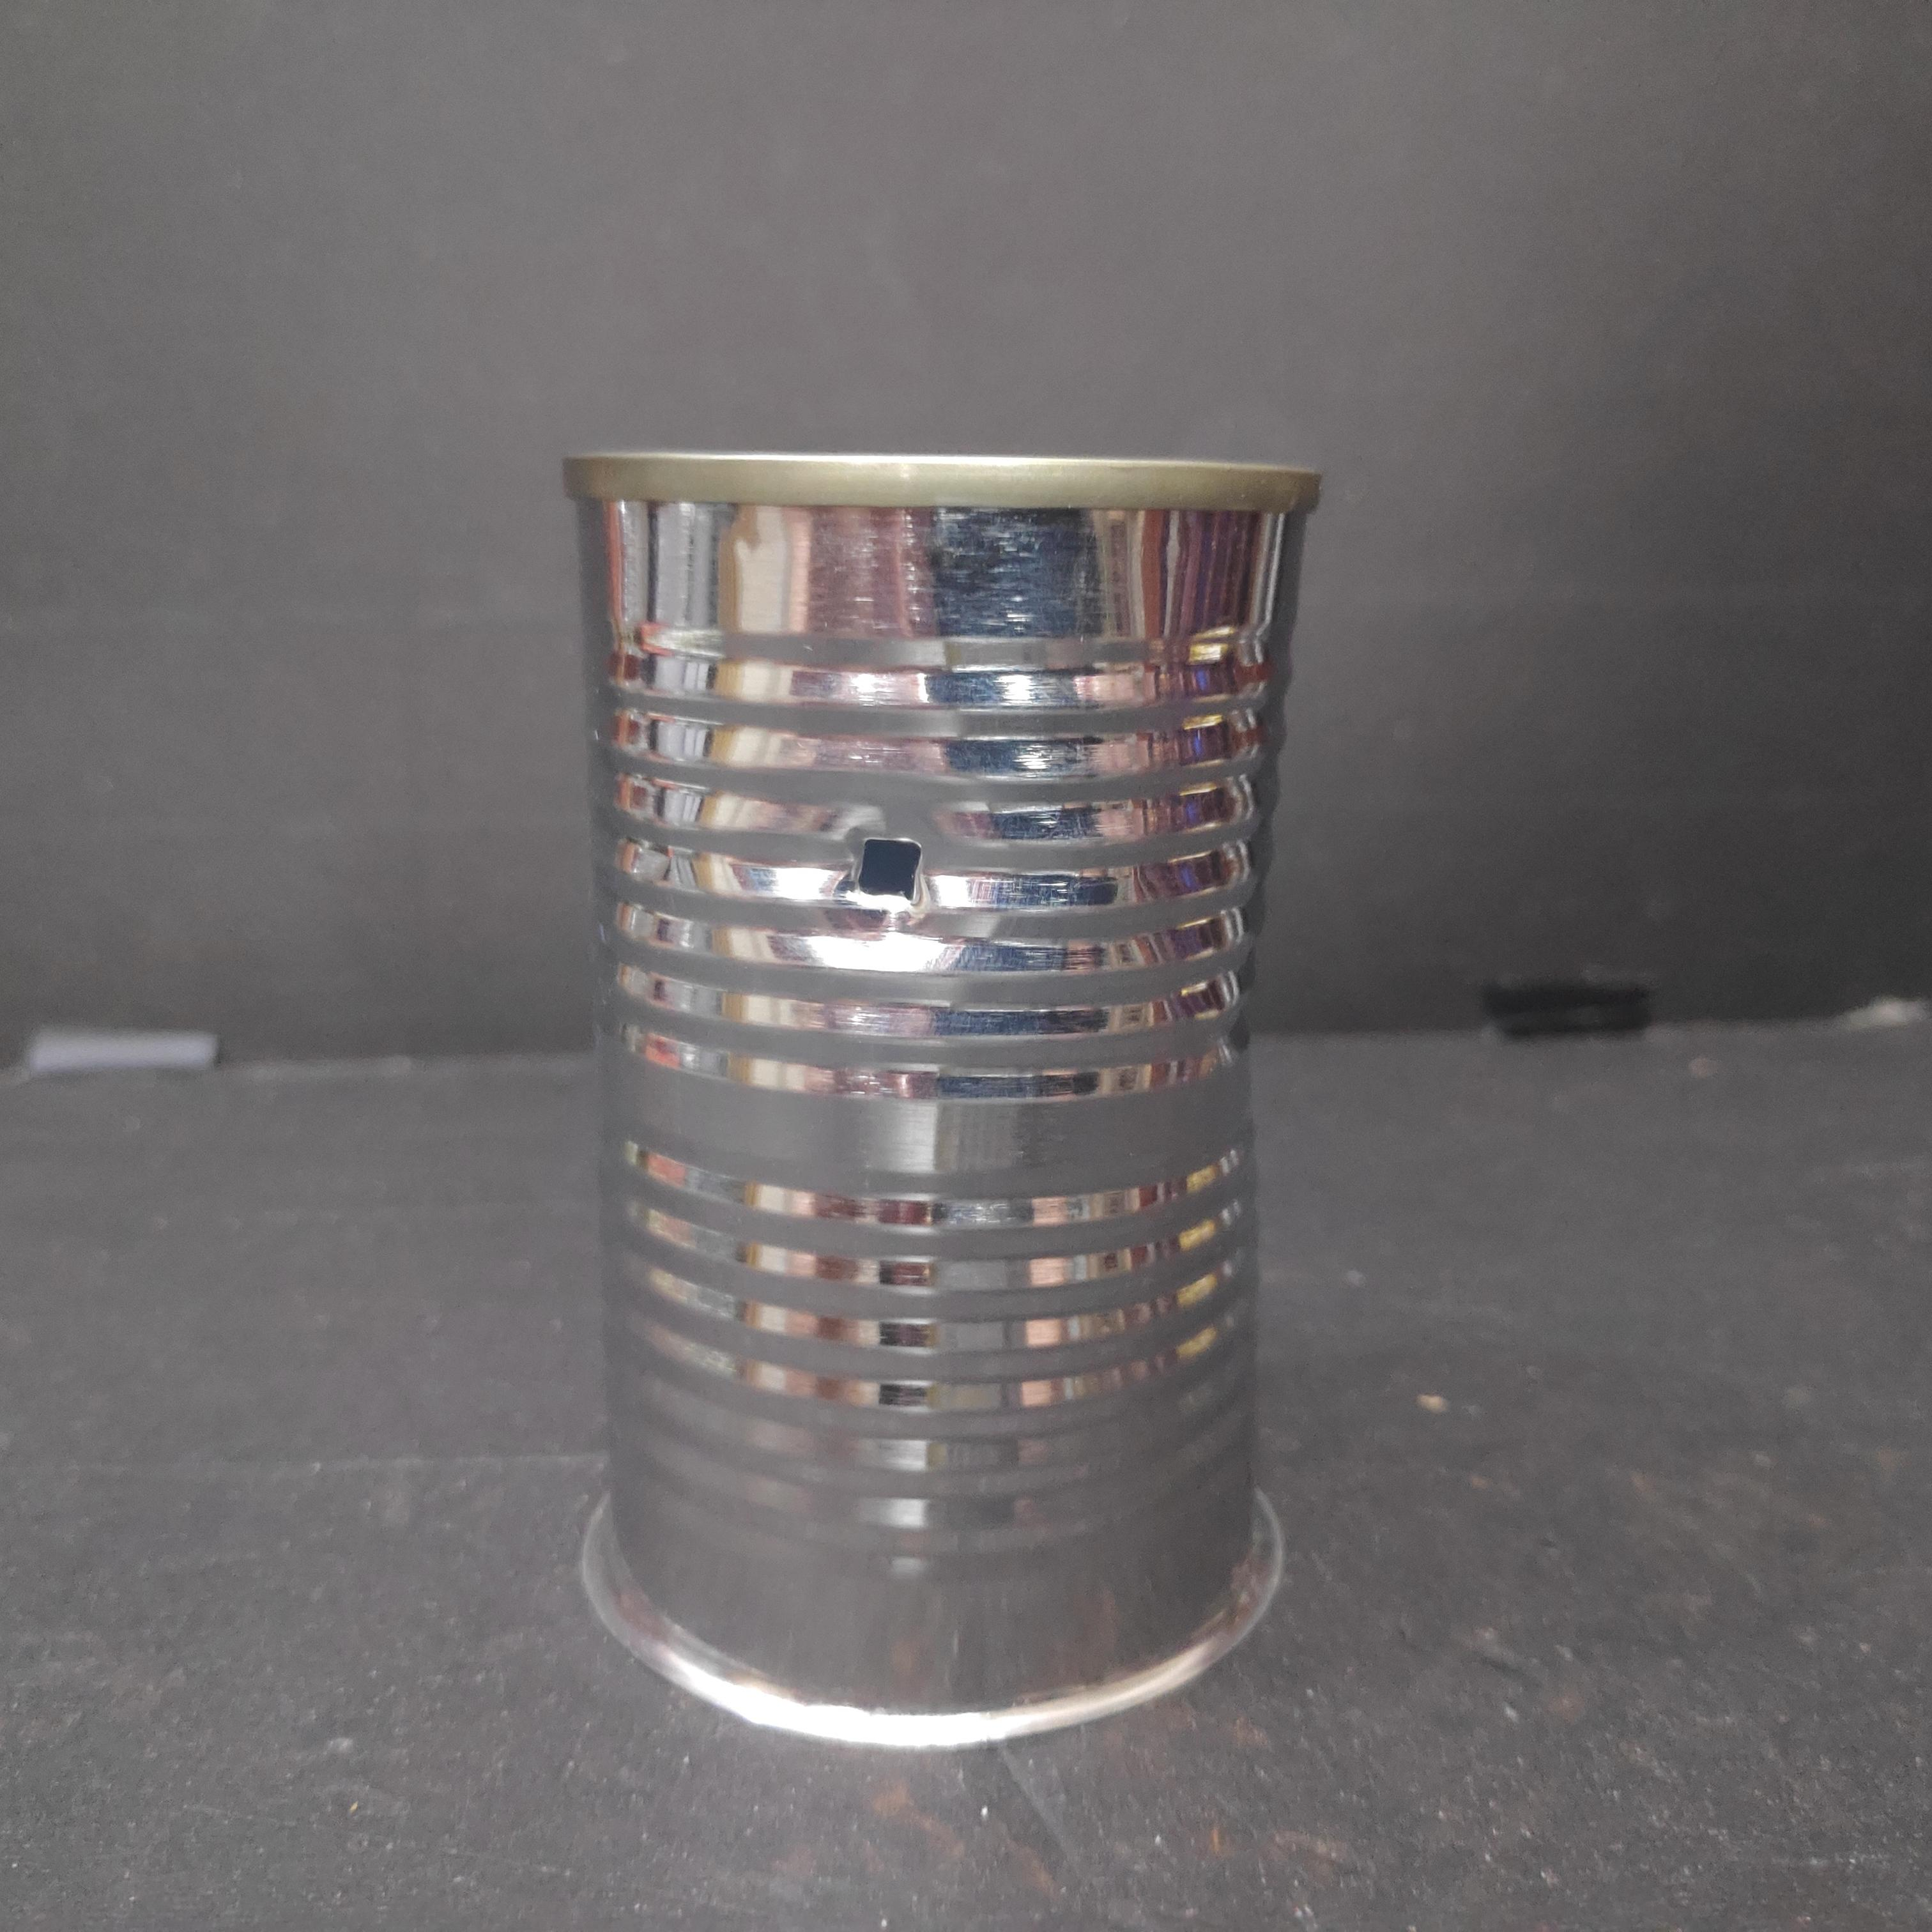Critical Defect: (554, 432, 1332, 1765)
